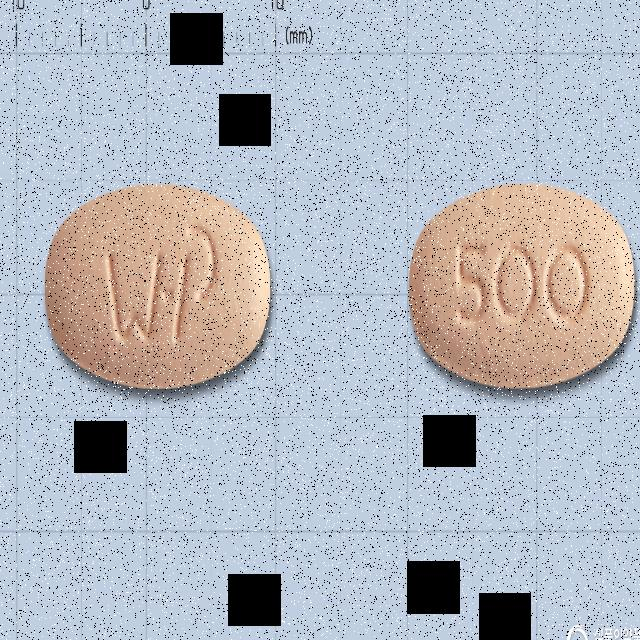Highloxin: (408, 180, 636, 388), (45, 183, 272, 390)
